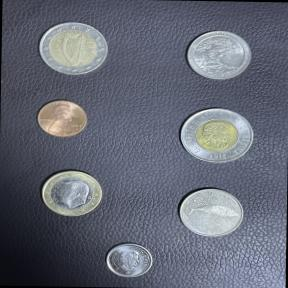1 Euro-B: (174, 184, 246, 240)
2 Euro-B: (31, 17, 112, 80)
Canada-10cent-B: (101, 240, 156, 282)
Canada-2Dollar-B: (172, 104, 258, 172)
Croatia-2Kune-B: (35, 165, 108, 222)
US-1cent-B: (32, 96, 92, 140)
US-25cent-B: (182, 25, 256, 84)
